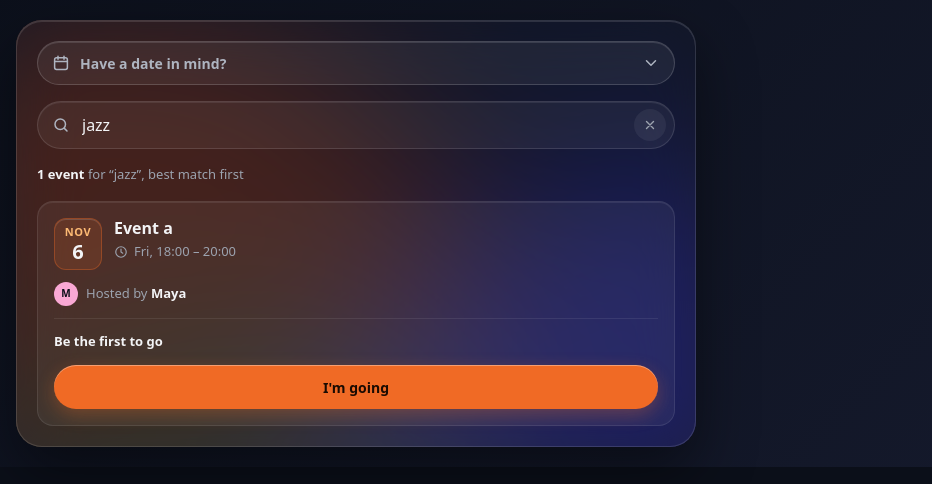
Test: clearing the field goes back to the start
The image size is (932, 484).
Expected: the button "Event a" is shown, left=114, top=218, right=173, bottom=238
Click the button named "Clear search".
click(650, 125)  # box left=634, top=109, right=666, bottom=141
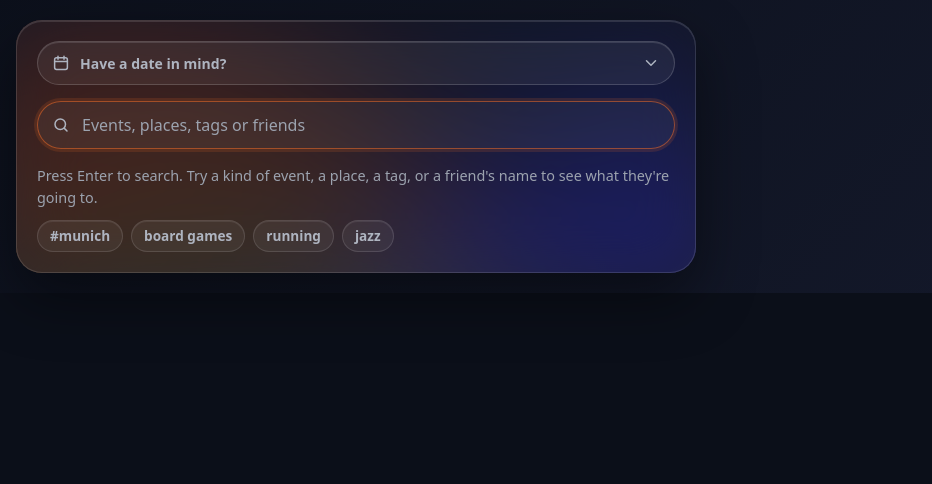
Now the search field named "Search events" is empty, box left=80, top=112, right=666, bottom=138
Now the button "Event a" is gone
Now the text "Press Enter to search" is shown, box left=37, top=166, right=669, bottom=207
